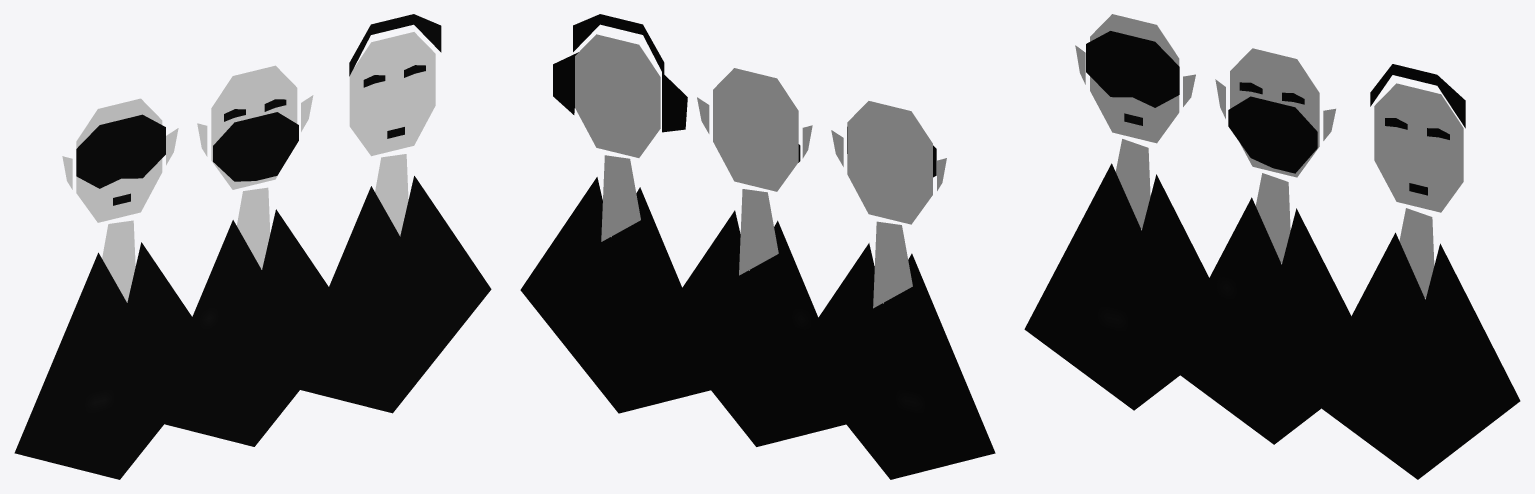
Rendered from Graffiti_01.glb.
3 renders of one model, left to right at view 1: azimuth 30°, elevation 25°; view 2: azimuth 150°, elevation 25°; view 3: azimuth 330°, elevation 25°, orthographic. The views are drawn at different scales.
Parts seen in each view (by area): view 1: graffiti_01_geo; view 2: graffiti_01_geo; view 3: graffiti_01_geo.
Part boxes in pixels (<box>): graffiti_01_geo: <box>14,14,491,479</box>; graffiti_01_geo: <box>520,14,995,479</box>; graffiti_01_geo: <box>1024,14,1520,479</box>.
Bounding box in the file's own units: 4.23 × 3.35 × 0.0269.
1 material, 1 textured.
